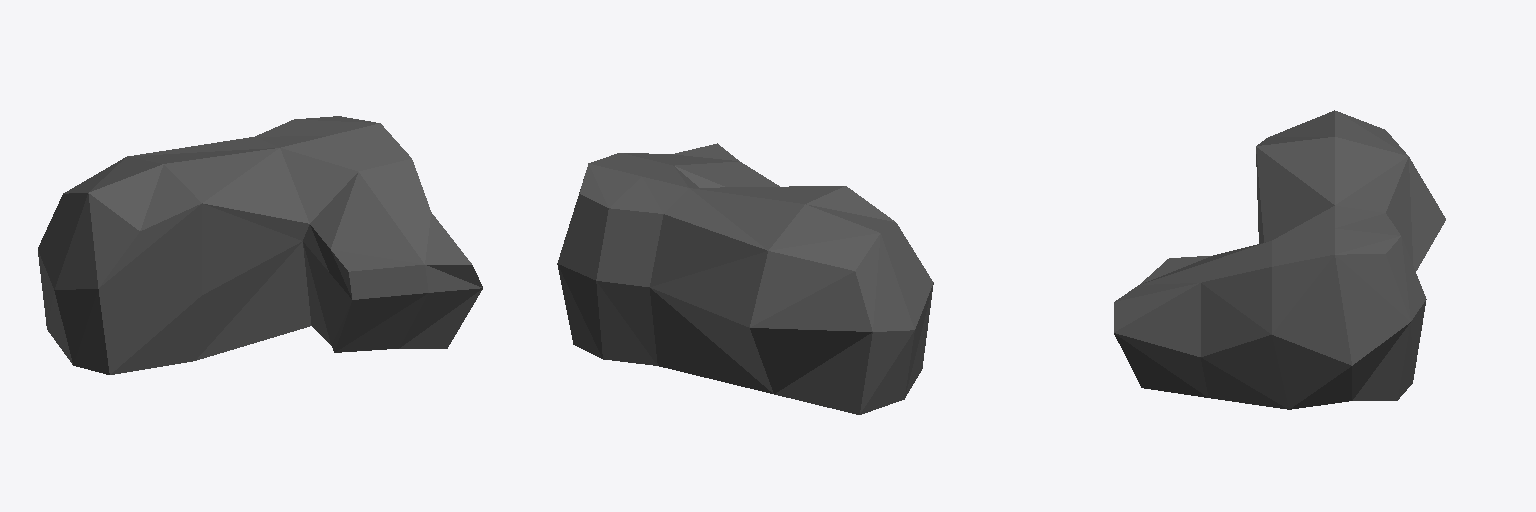
The model's file is rock1.obj.
The picture shows the model from 3 angles: view 1: azimuth 30°, elevation 25°; view 2: azimuth 150°, elevation 25°; view 3: azimuth 270°, elevation 25°; orthographic projection.
Visible parts, largest first — view 1: rock6; view 2: rock6; view 3: rock6.
Part boxes in pixels (x1,y1,x2,y2): rock6: (38,116,482,374); rock6: (557,143,933,414); rock6: (1114,110,1445,409).
Bounding box in the file's own units: 29.27 × 14.08 × 24.21.